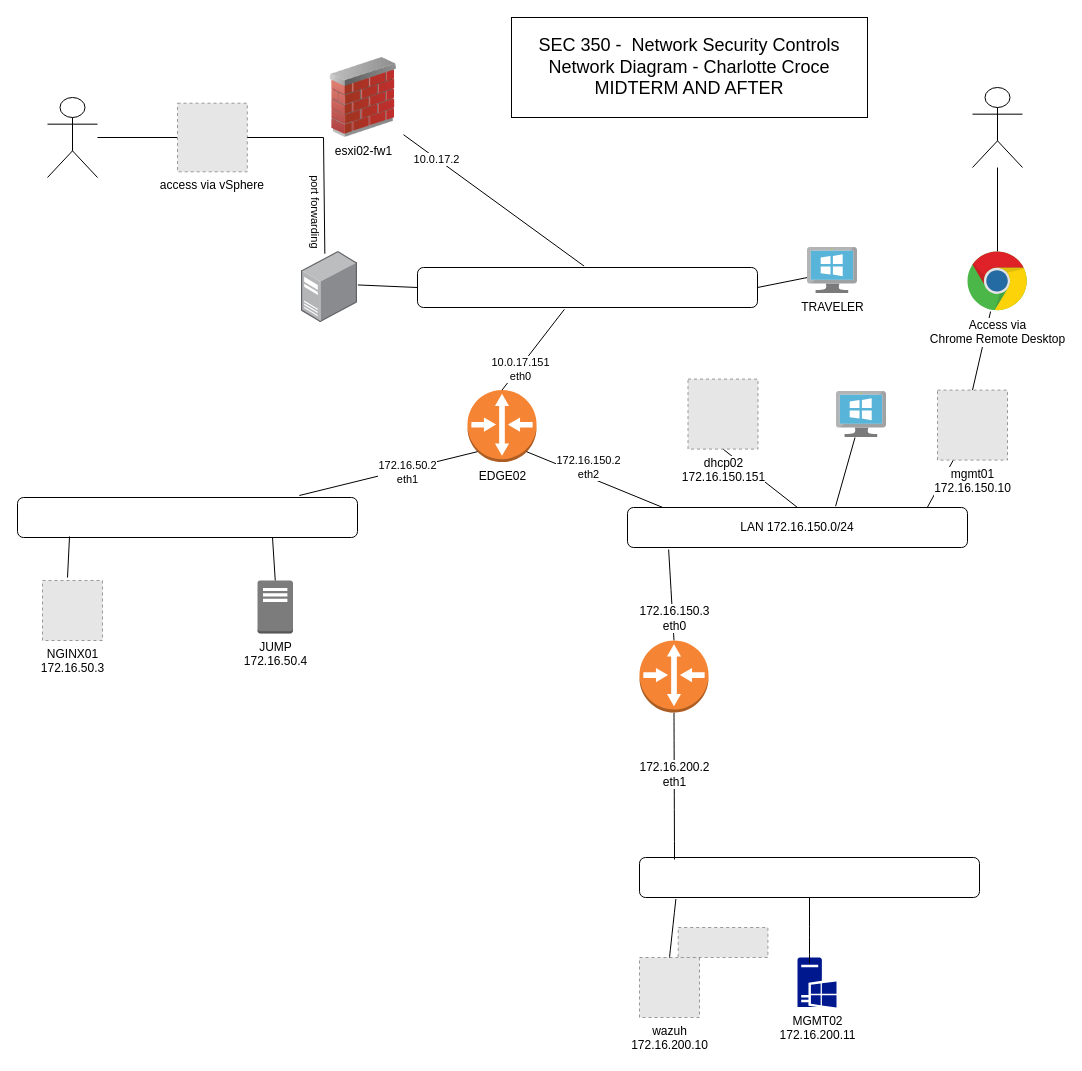
Image size: 1082x1071. Some labels were removed from this diagram. Grey dashed boxes stand in for pictures. Here are the shapes that lost their labels. From the top down, the centre of each, then its label:
At pixel 329 286: "sec350.cyber.local 10.0.17.100".
At pixel 587 287: "SEC-350 WAN 10.0.17.0/24".
At pixel 861 414: "wks01 172.16.150.100-150".
At pixel 187 517: "DMZ 172.16.50.0/29".
At pixel 673 676: "FW-MGMT".
At pixel 809 877: "MGMT 172.16.2000.0/28".
